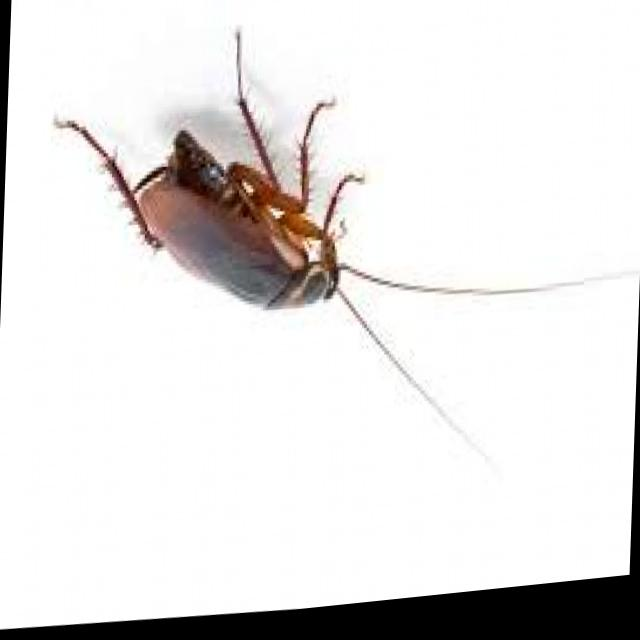Cockroach: (39, 3, 430, 484)
